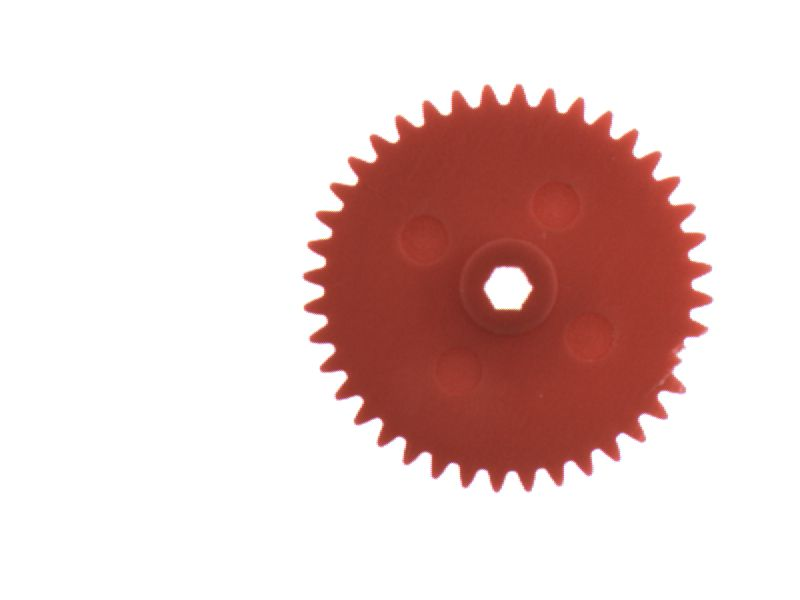defect_lack: (663, 322, 730, 390)
